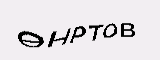В: (119, 21, 137, 39)
Н: (46, 28, 71, 49)
О: (103, 22, 118, 39)
Р: (70, 25, 86, 45)
Т: (87, 23, 105, 42)
Ө: (16, 30, 45, 48)
